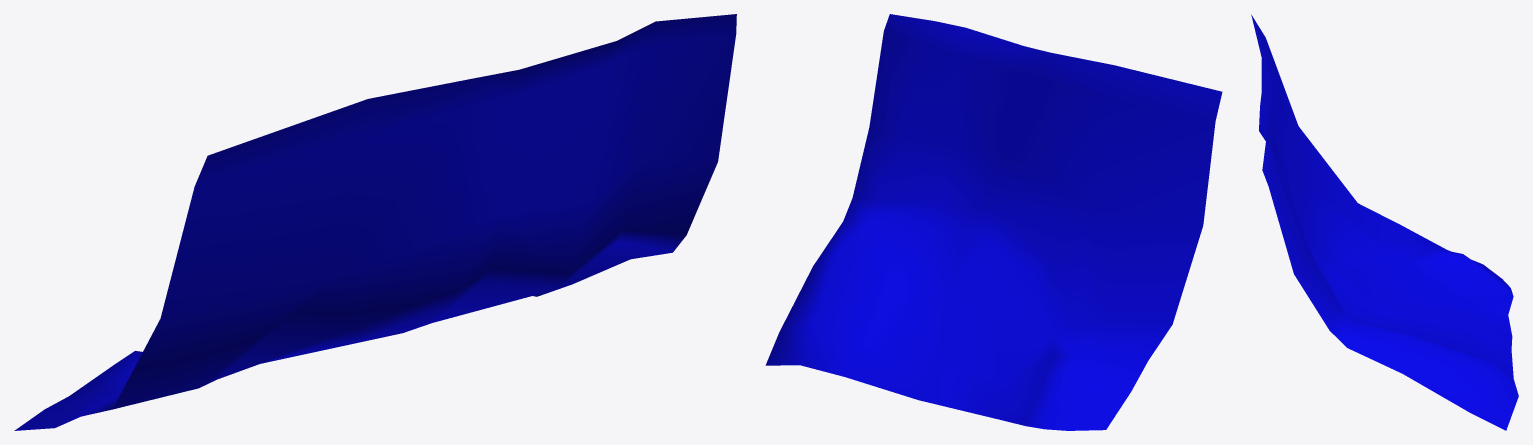
Rendered from CavernCurve.fbx.
The picture shows the model from 3 angles, left to right: view 1: azimuth 30°, elevation 25°; view 2: azimuth 150°, elevation 25°; view 3: azimuth 270°, elevation 25°; orthographic projection. The views are drawn at different scales.
Parts seen in each view (by area): view 1: CurveLowPoly4:Group39096; view 2: CurveLowPoly4:Group39096; view 3: CurveLowPoly4:Group39096.
Part boxes in pixels (<box>): CurveLowPoly4:Group39096: <box>14,14,736,430</box>; CurveLowPoly4:Group39096: <box>765,14,1222,430</box>; CurveLowPoly4:Group39096: <box>1251,14,1518,430</box>.
Bounding box in the file's own units: 26.27 × 19.9 × 18.18.
